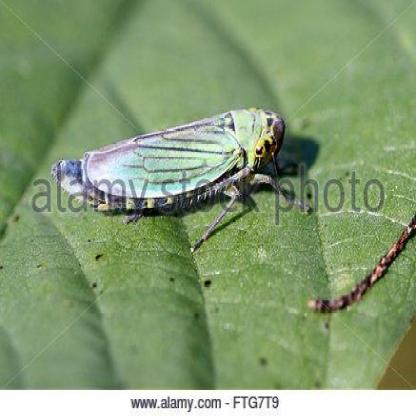Green-Leafhopper: (52, 107, 290, 236)
